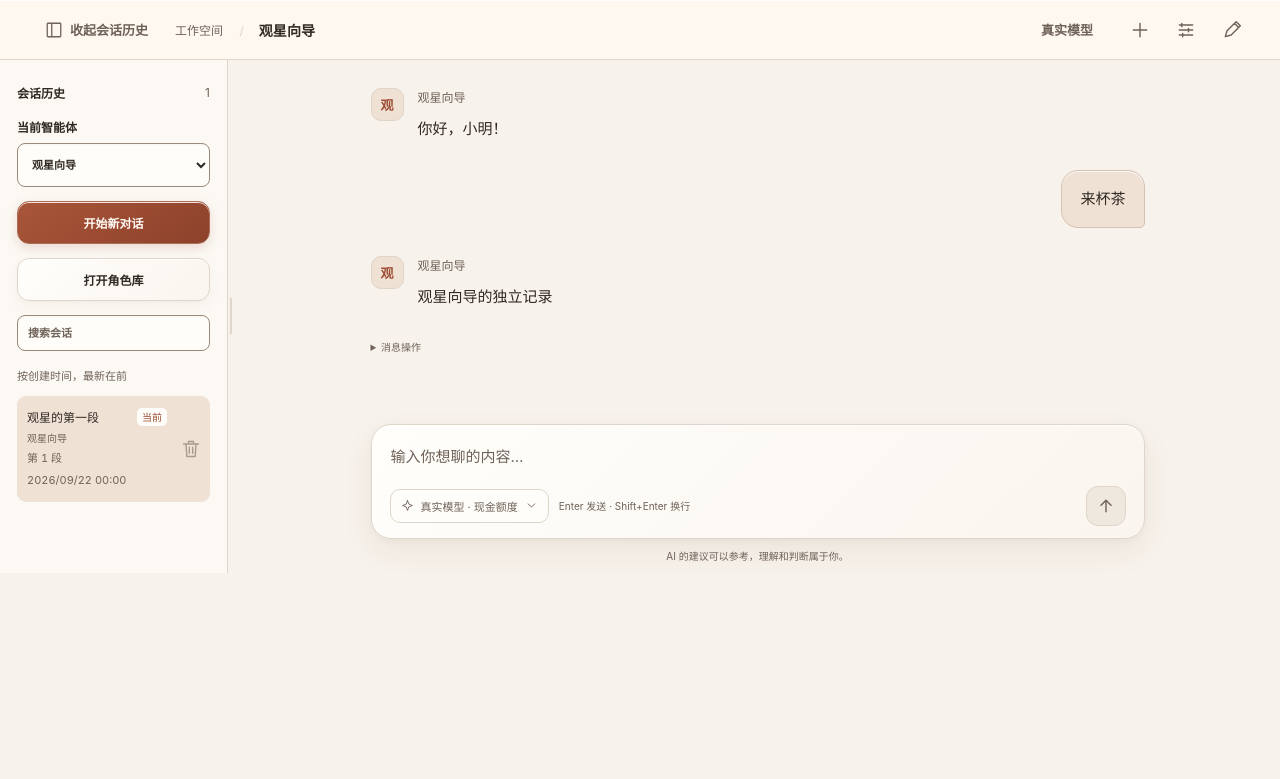
it: makes a newly created character immediately available without returning to the library to use it
Expected: the text "观星向导的独立记录" is shown, left=418, top=286, right=552, bottom=306
Click the button "打开角色库".
click(114, 279)  # box left=17, top=258, right=210, bottom=301
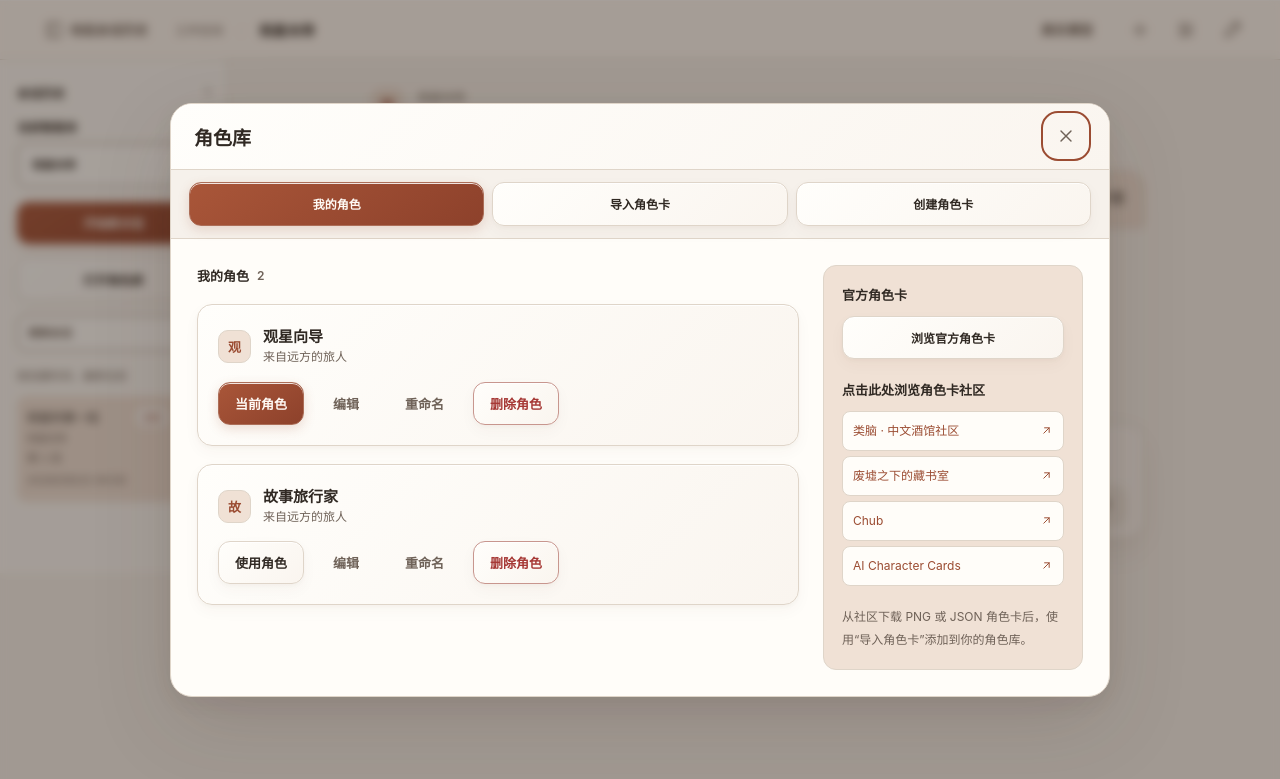
Click the button "创建角色卡".
click(943, 204)  # box left=796, top=182, right=1091, bottom=226
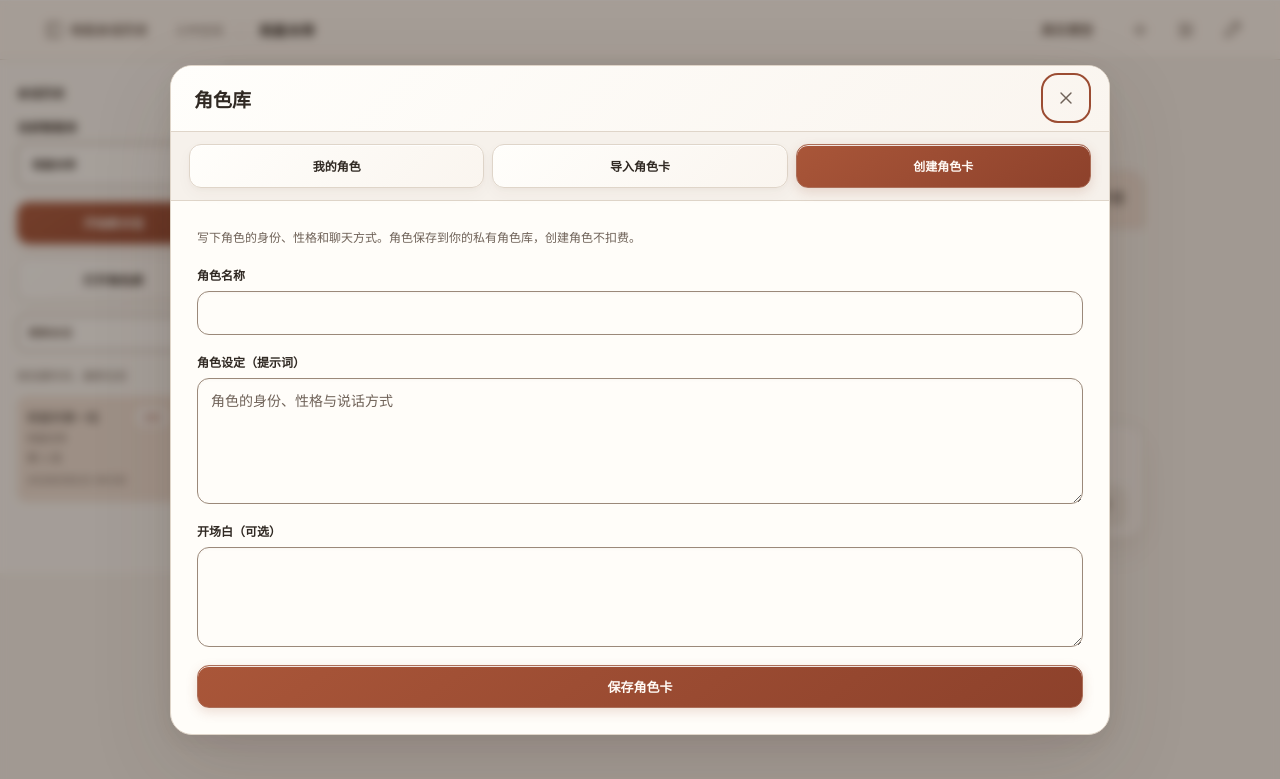
Type "围棋伙伴" into the field labelled "角色名称".
click(640, 313); type("围棋伙伴")  # box left=197, top=291, right=1083, bottom=335
Type "陪我复盘围棋。" into the text box labelled "角色设定（提示词）".
click(640, 441); type("陪我复盘围棋。")  # box left=197, top=378, right=1083, bottom=504
Type "今天下哪一手？" into the text box labelled "开场白（可选）".
click(640, 597); type("今天下哪一手？")  # box left=197, top=547, right=1083, bottom=647
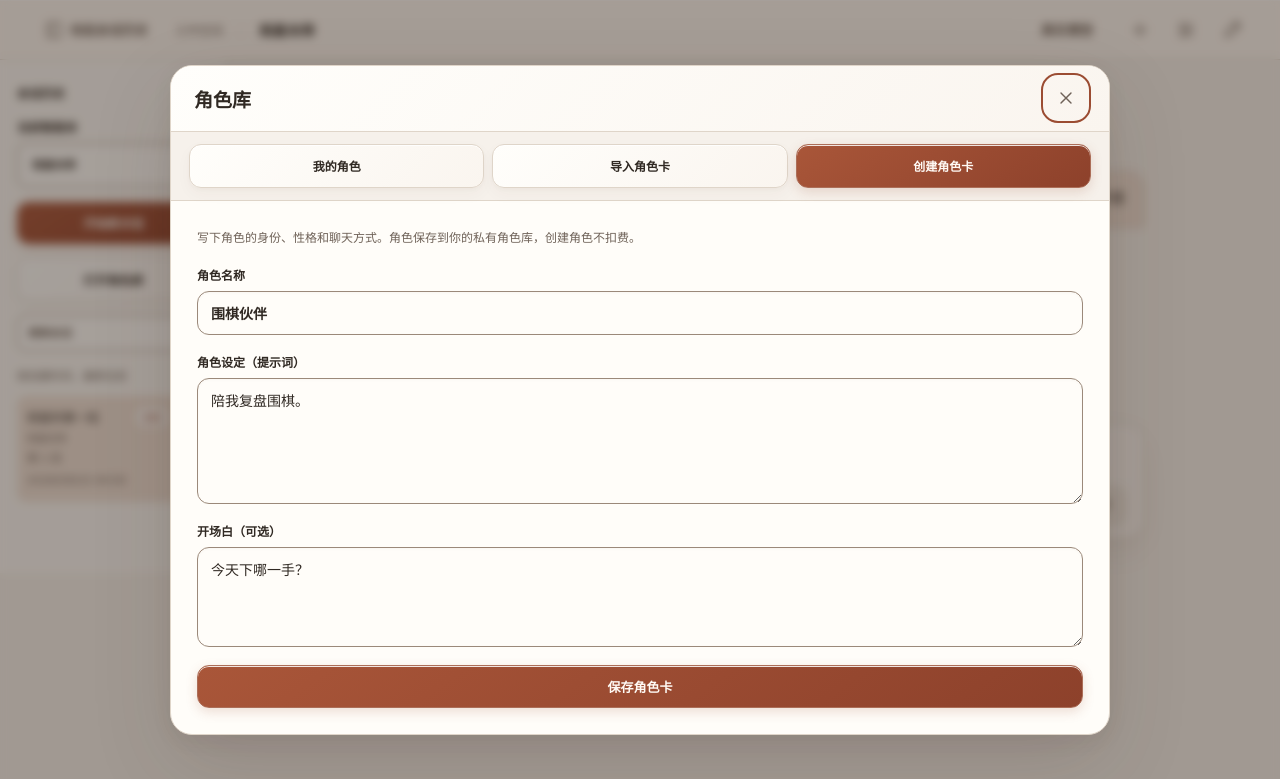
Click the button "保存角色卡".
click(640, 687)  # box left=197, top=665, right=1083, bottom=708
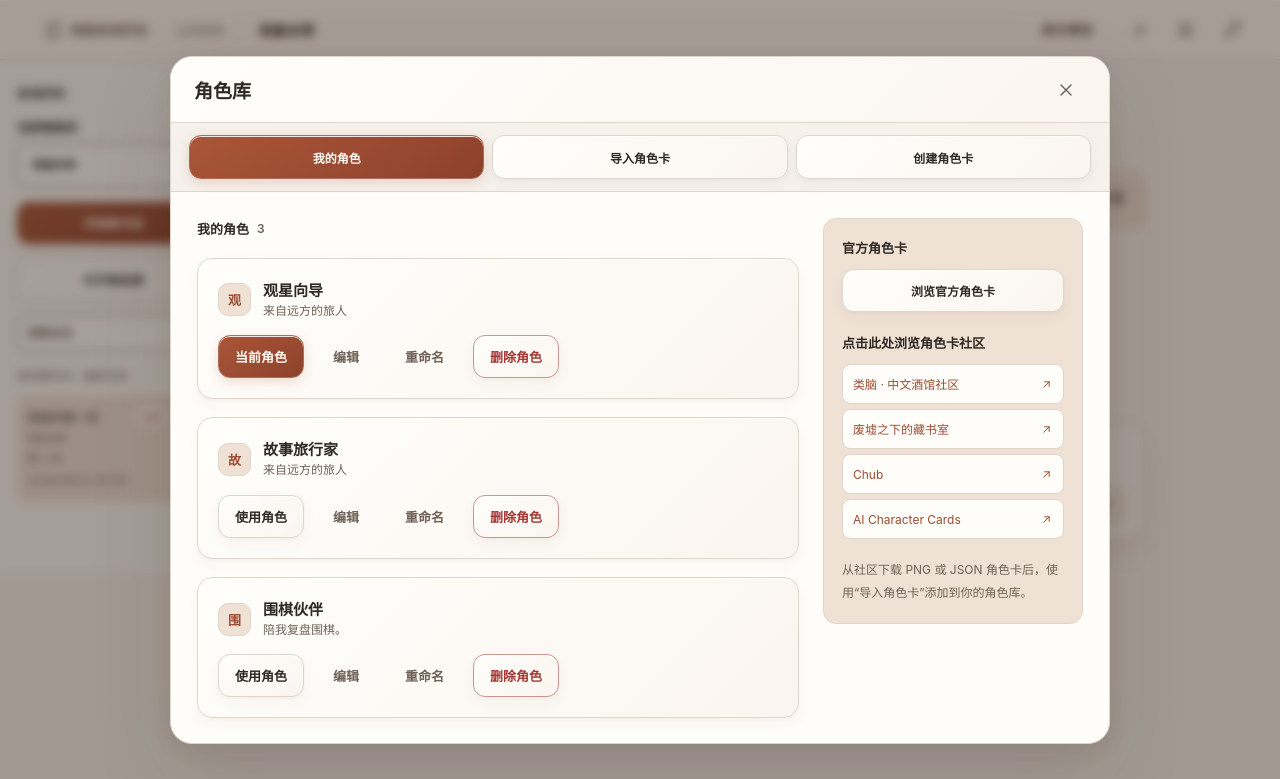
Expected: the heading "围棋伙伴" is shown, left=263, top=600, right=323, bottom=619
Click the button named "关闭".
click(1066, 90)  # box left=1046, top=70, right=1086, bottom=110
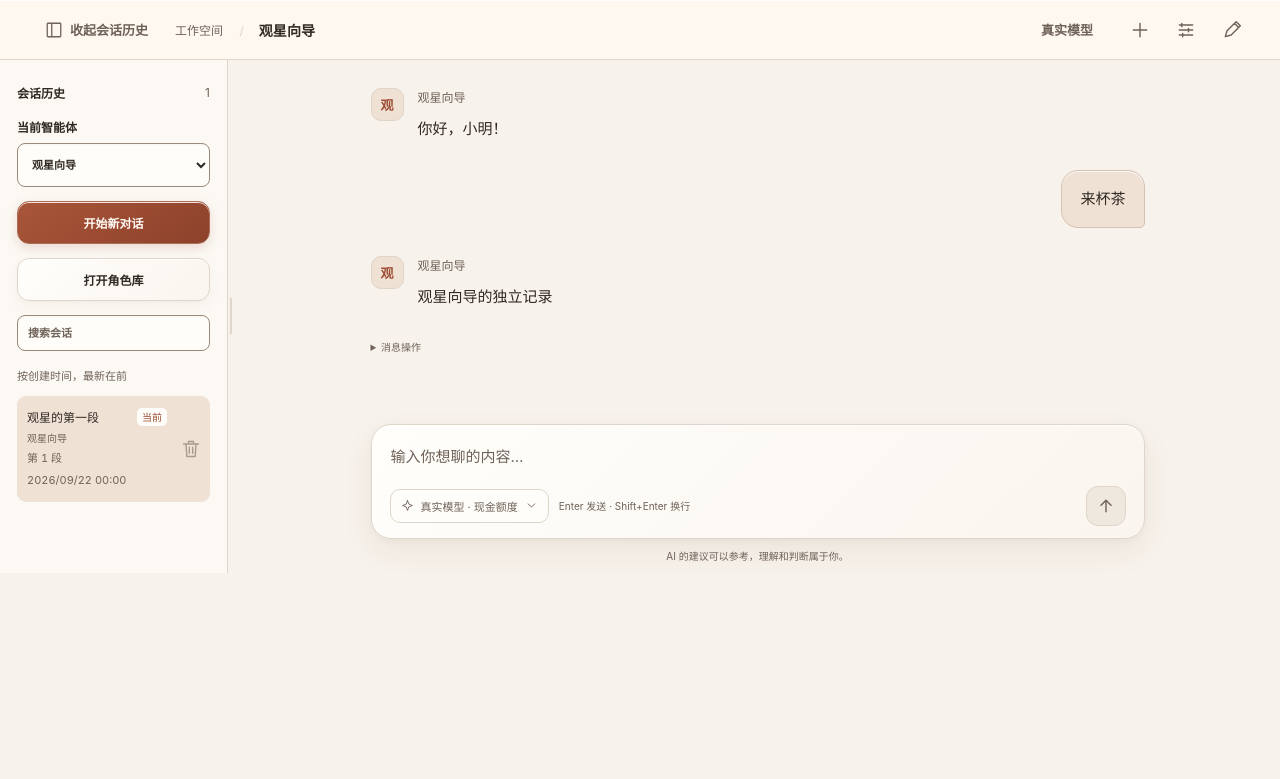
Expected: the text "观星向导的独立记录" is shown, left=418, top=286, right=552, bottom=306
Select "围棋伙伴" in the dropdown at coordinates (114, 165), box left=17, top=143, right=210, bottom=187
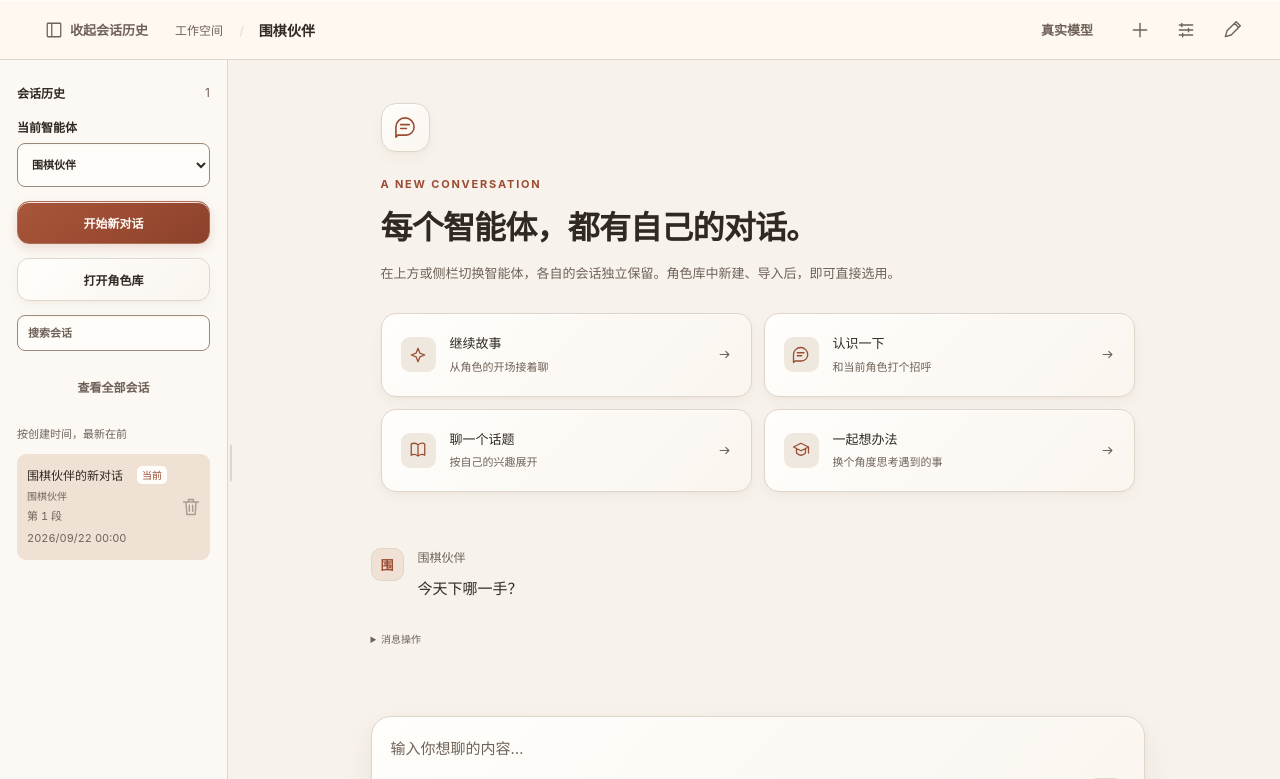
Expected: the text "今天下哪一手？" is shown, left=418, top=579, right=522, bottom=598
